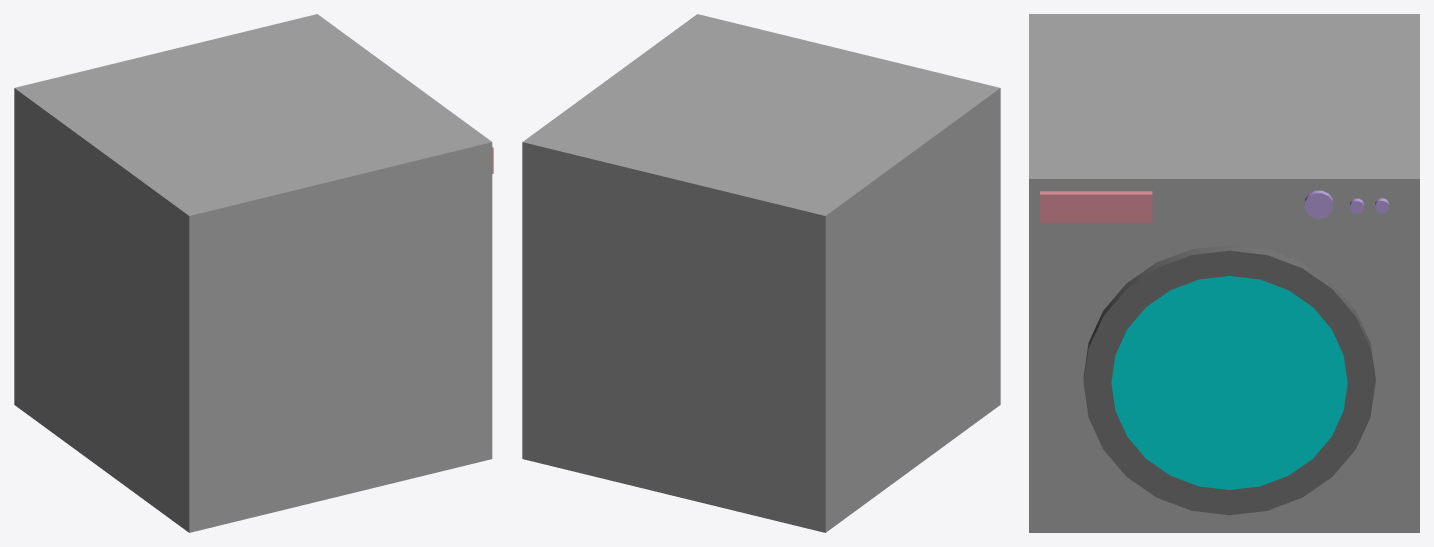
File: çmakinesi.fbx
3 renders of one model, left to right at view 1: azimuth 30°, elevation 25°; view 2: azimuth 150°, elevation 25°; view 3: azimuth 270°, elevation 25°, orthographic. The views are drawn at different scales.
Parts seen in each view (by area): view 1: polySurface8; view 2: polySurface8; view 3: polySurface8, pDisc1, pCube13, pCylinder6.
Part boxes in pixels (box(x1,y1,x2,y2)): polySurface8: box(14, 14, 492, 532); polySurface8: box(522, 14, 1000, 532); polySurface8: box(1029, 14, 1419, 532); pDisc1: box(1083, 245, 1375, 515); pCube13: box(1040, 191, 1152, 223); pCylinder6: box(1304, 190, 1333, 218).
Bounding box in the file's own units: 8.78 × 8.48 × 8.48.
